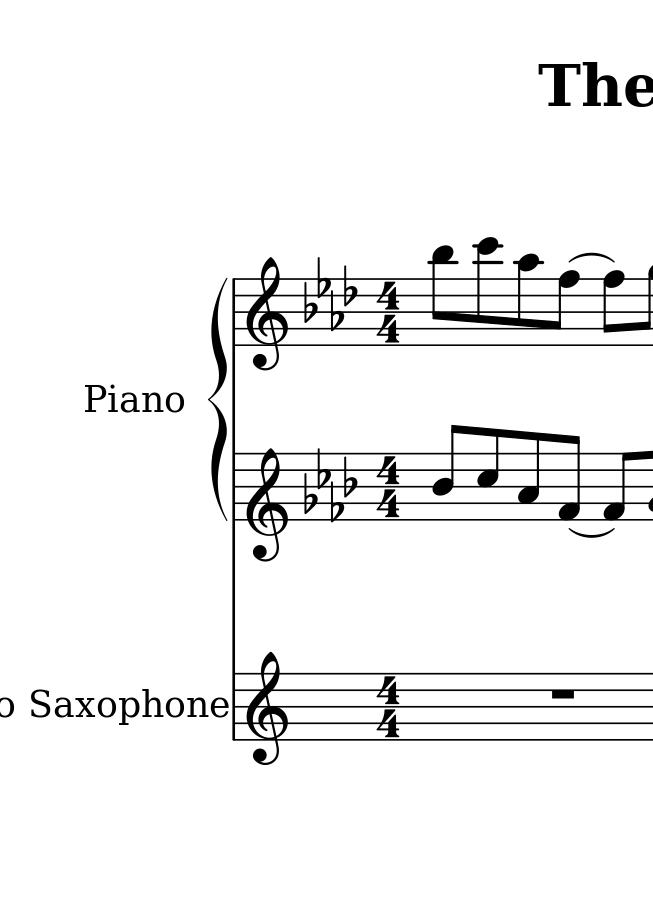4: (373, 708, 407, 740), (375, 312, 406, 347), (374, 486, 404, 522), (373, 673, 404, 707), (376, 279, 406, 312), (375, 453, 403, 485)
8_1: (601, 450, 634, 524), (557, 433, 584, 523)
8_10: (514, 252, 542, 349)
8_11: (430, 245, 456, 349)
8_12: (474, 237, 502, 348)
8_3: (516, 429, 542, 523)
8_4: (430, 423, 464, 523)
8_5: (475, 427, 503, 521)
8_8: (552, 268, 580, 347), (602, 270, 627, 350)
A_F: (302, 446, 358, 523), (302, 256, 358, 331)
Brace: (207, 275, 230, 525)
Gclef: (245, 650, 294, 767), (244, 256, 291, 371), (247, 445, 287, 568)
Pno: (83, 382, 184, 415)
Rests1: (549, 684, 580, 701)
Sax: (28, 685, 94, 723)
Single_barline: (228, 453, 243, 523), (229, 671, 241, 744), (230, 277, 242, 350)
Slur: (567, 252, 615, 265), (569, 527, 617, 539)
TimeSig: (375, 672, 407, 741), (374, 280, 404, 347), (373, 451, 402, 519)
